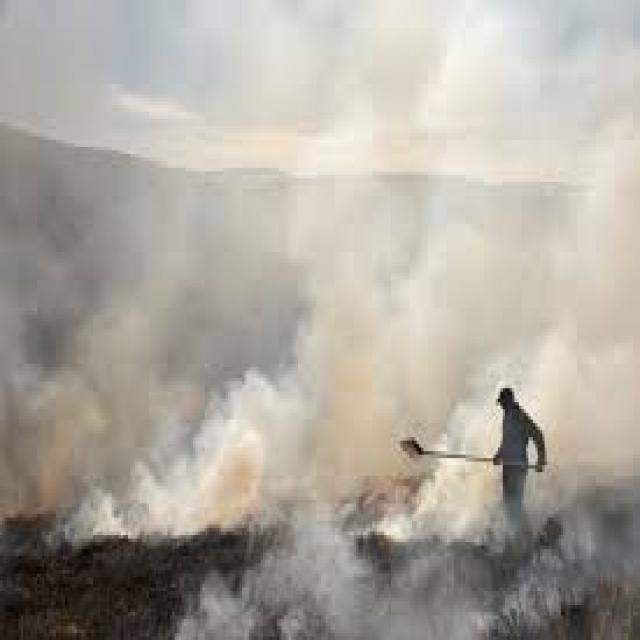Smoke: (65, 206, 640, 542), (175, 514, 638, 633)
